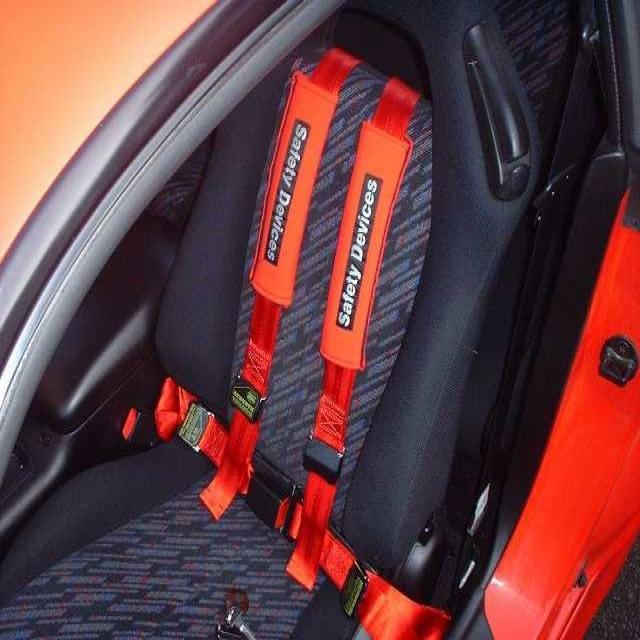seatbelt: (198, 53, 358, 480), (288, 80, 416, 568)
